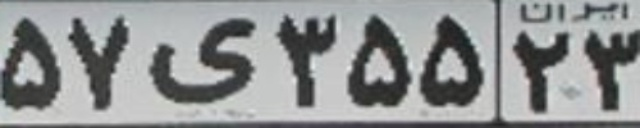2: (512, 27, 568, 111)
3: (273, 11, 341, 107), (581, 29, 636, 111)
5: (343, 11, 418, 106), (418, 13, 486, 105), (1, 16, 60, 108)
7: (66, 11, 137, 109)
ye: (148, 13, 257, 104)
